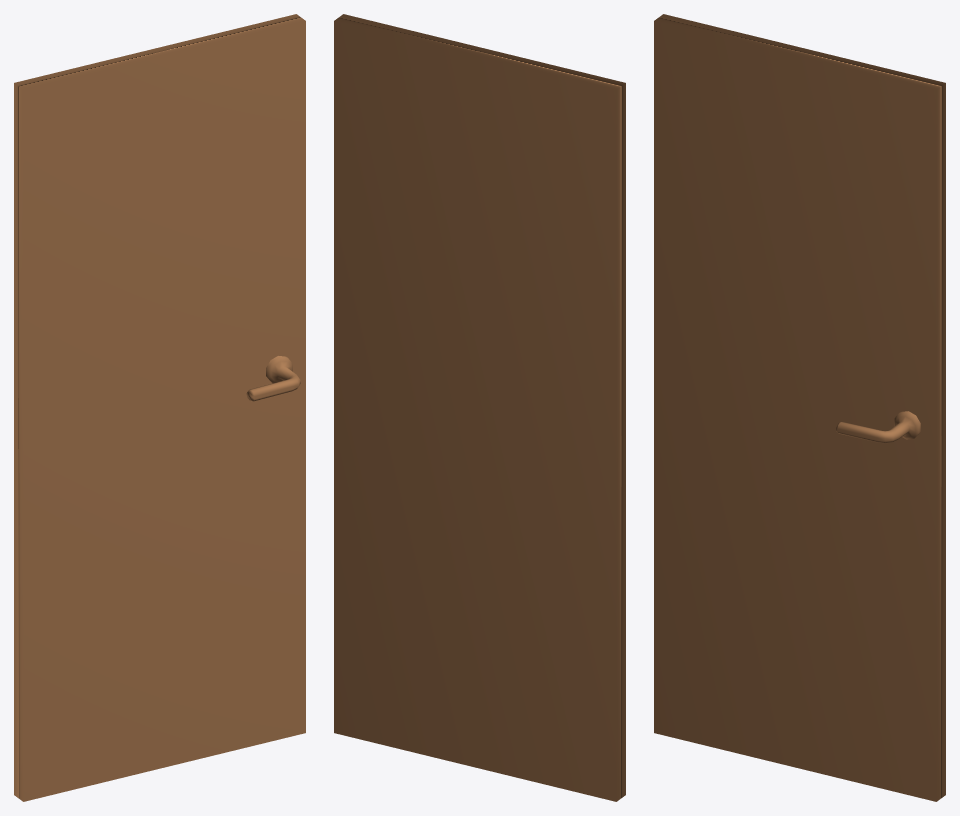
The model's file is door.gltf.
3 views of the same model, side by side, from view 1: azimuth 30°, elevation 25°; view 2: azimuth 150°, elevation 25°; view 3: azimuth 330°, elevation 25° (orthographic).
Parts seen in each view (by area): view 1: Door; view 2: Door; view 3: Door.
Part boxes in pixels (x1,y1,x2,y2): Door: (14, 14, 305, 801); Door: (334, 14, 625, 801); Door: (654, 14, 945, 801).
Bounding box in the file's own units: 0.86 × 2.07 × 0.1761.
